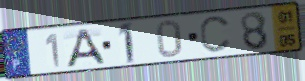0: (154, 18, 184, 60)
1: (116, 21, 137, 65), (44, 32, 62, 68)
8: (239, 10, 270, 52)
A: (64, 27, 108, 69)
C: (198, 14, 233, 55)
